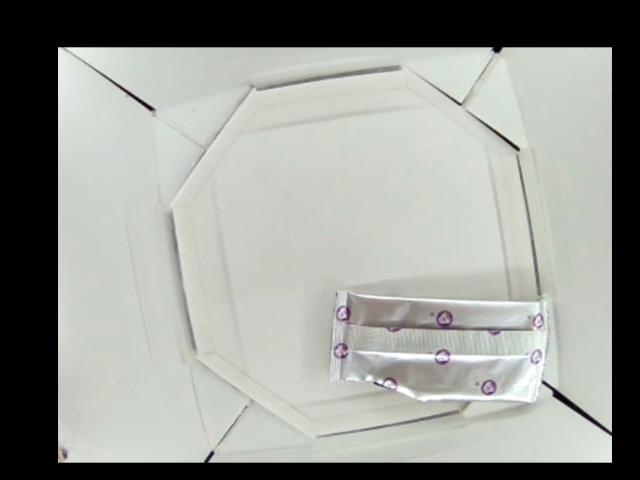Medicine: (326, 288, 549, 404)
